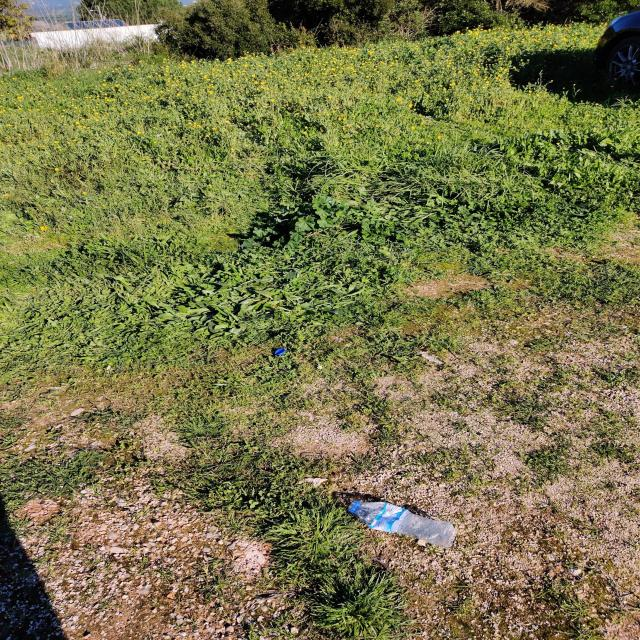litter: (347, 499, 456, 547), (274, 348, 286, 356)
